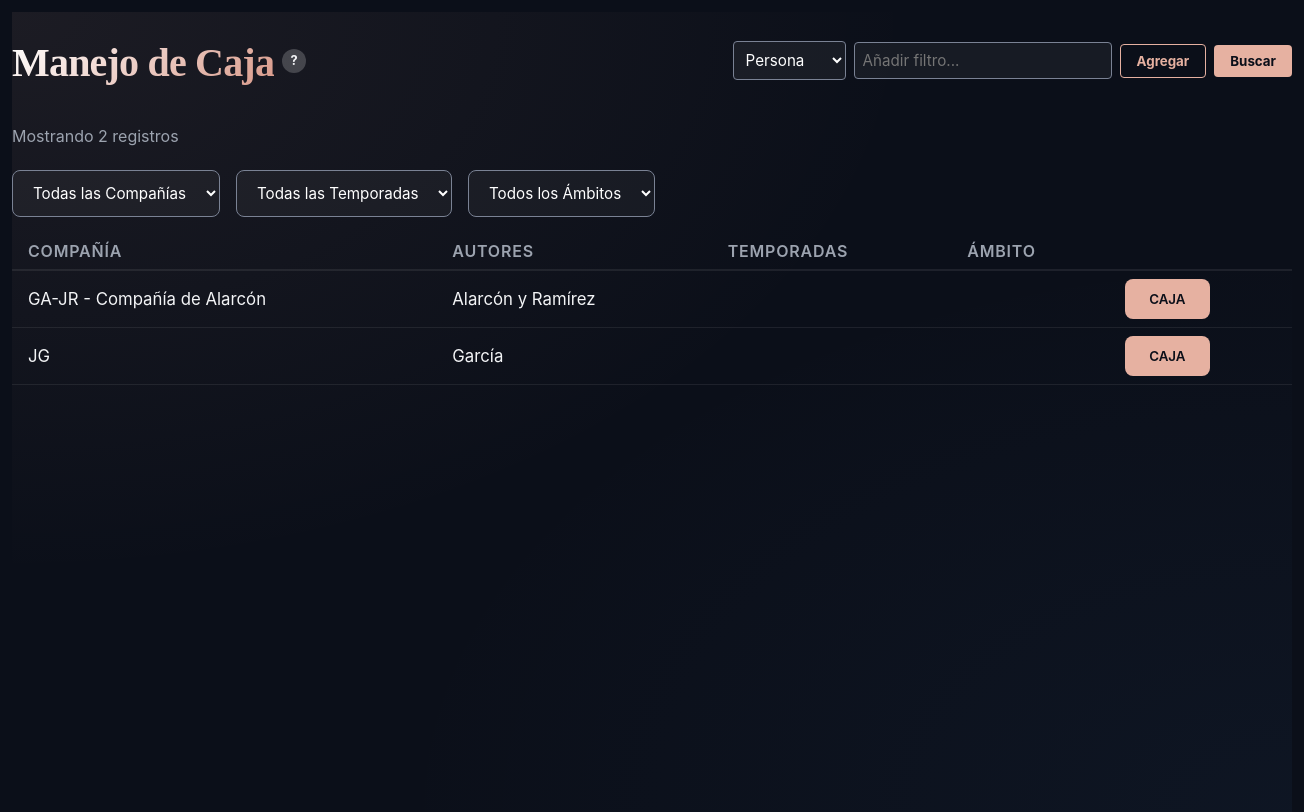
Test case: Manejo de Caja: anuncios de resultados › anuncia el listado y la búsqueda en el mismo nodo persistente
Expected: the text "Mostrando 2 registros" is shown, x1=12 y1=126 x2=179 y2=146
Select "Persona" in the dropdown named "Buscar en" at (789, 61), box x1=733 y1=41 x2=846 y2=80
Type "Alarcón" into the field with placeholder "Añadir filtro..." at (983, 61), box x1=854 y1=42 x2=1112 y2=79
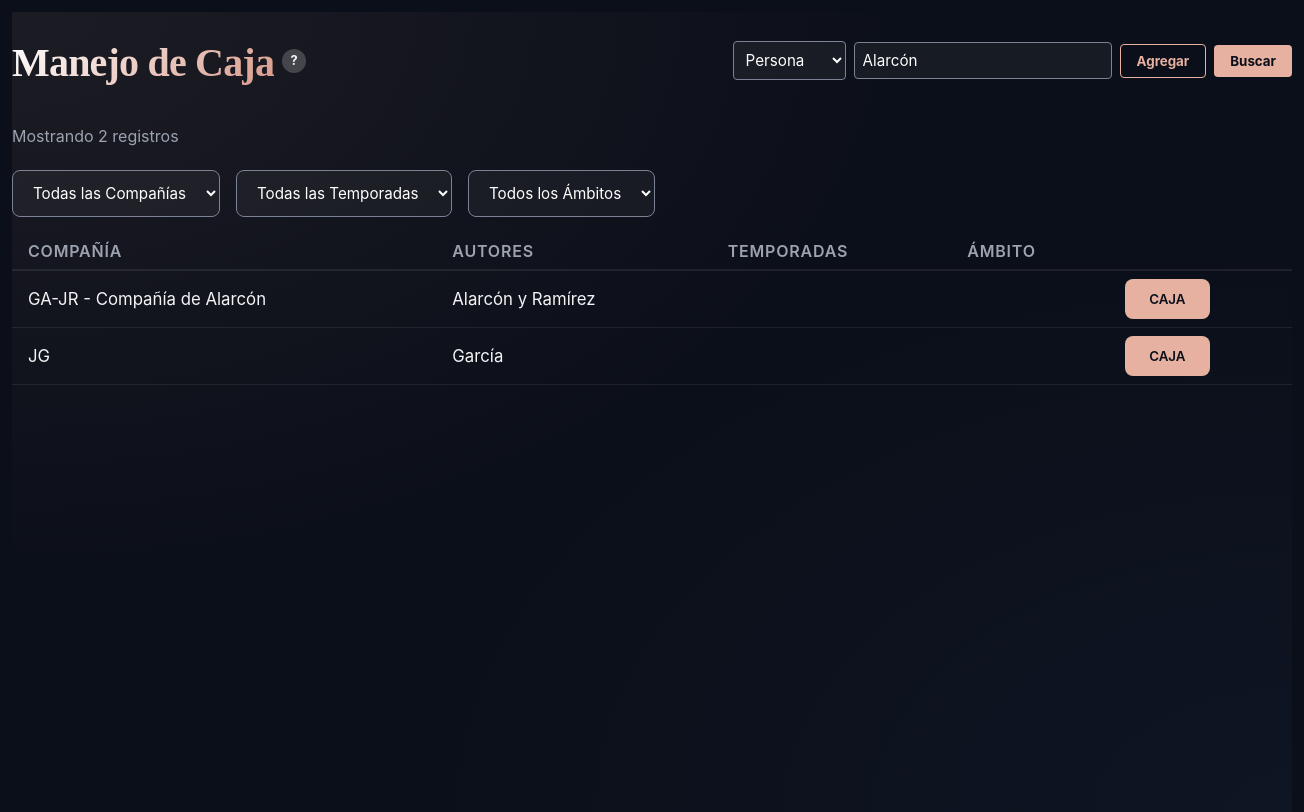
Click the button "Buscar" at (1253, 61), box x1=1214 y1=45 x2=1292 y2=77
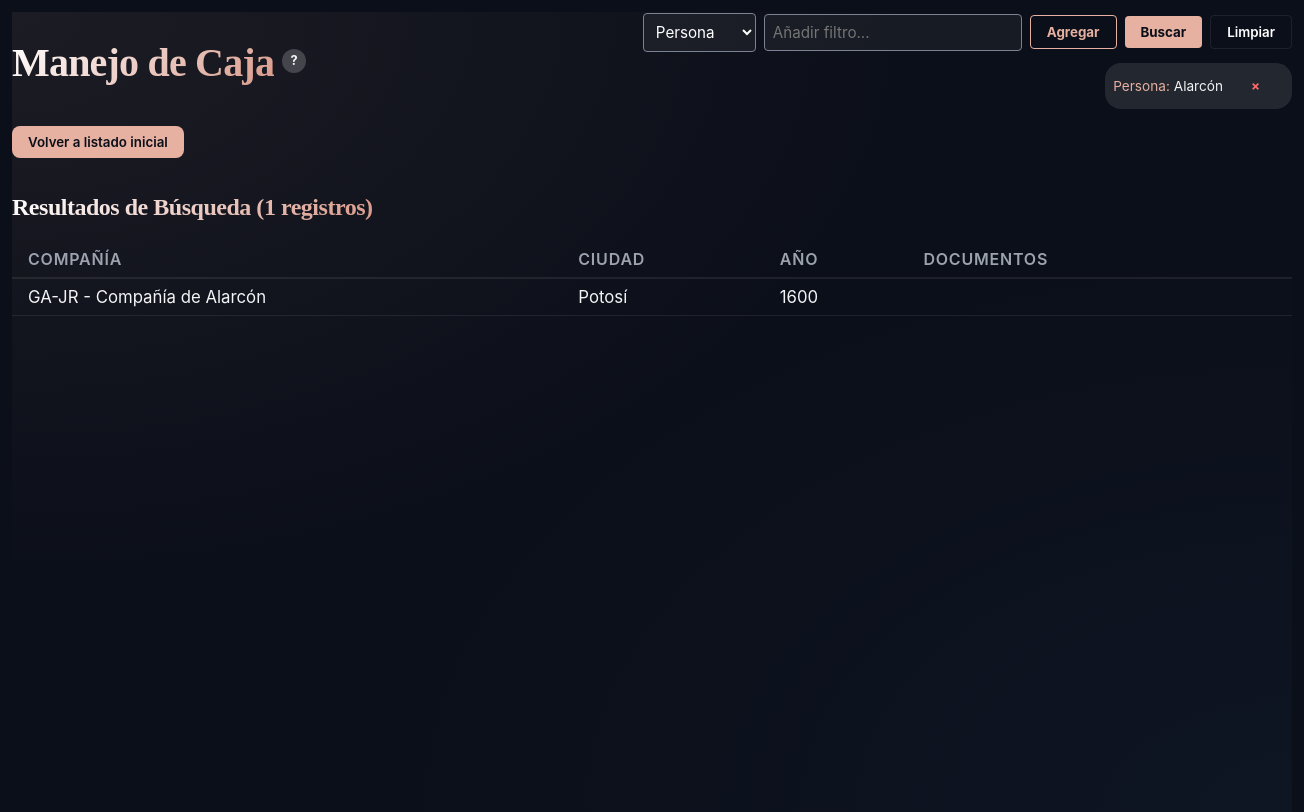
Result: the number of headings "Resultados de Búsqueda (1 registros)" is 1 at x1=12 y1=194 x2=373 y2=221
